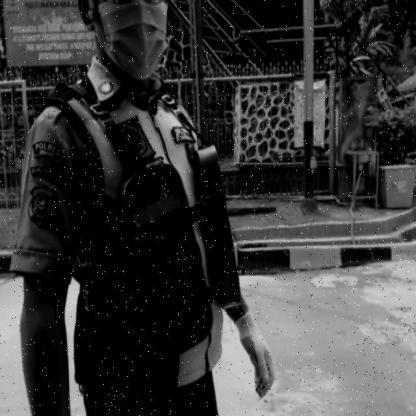gloves: (231, 307, 280, 398)
mask: (96, 1, 172, 85)
vest: (105, 140, 240, 379)
